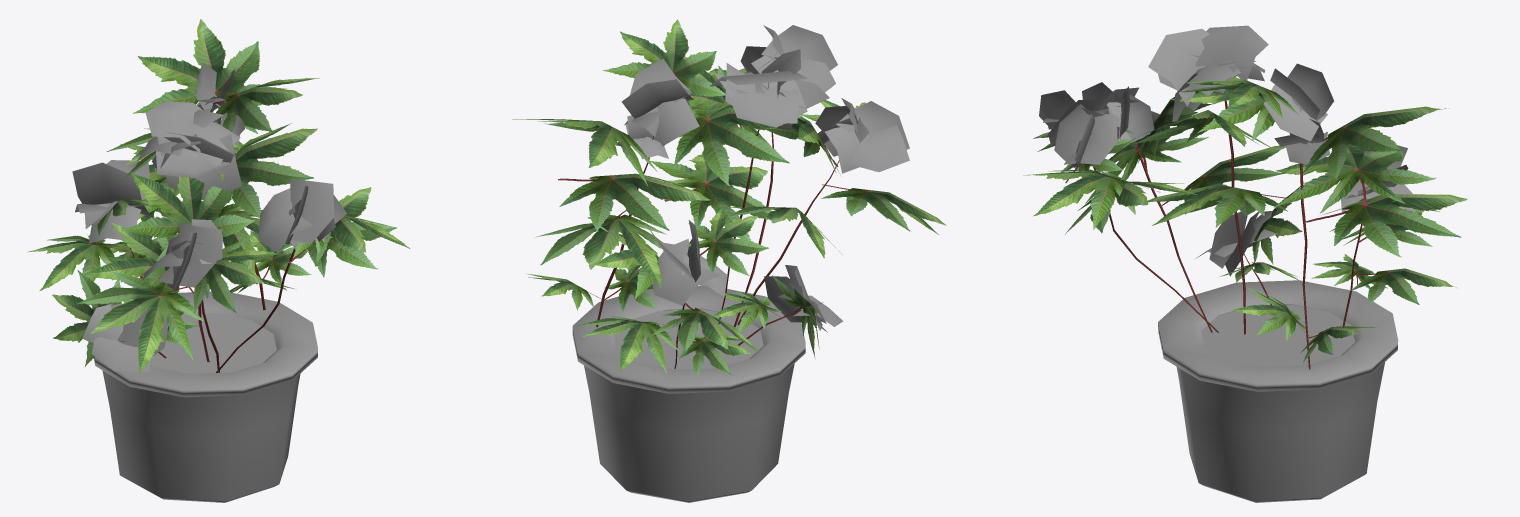
The model's file is Fern_flower_lod0.fbx.
The picture shows the model from 3 angles, left to right: view 1: azimuth 30°, elevation 25°; view 2: azimuth 150°, elevation 25°; view 3: azimuth 270°, elevation 25°; orthographic projection. The views are drawn at different scales.
Visible parts, largest first — view 1: Fern_flower_lod0; view 2: Fern_flower_lod0; view 3: Fern_flower_lod0.
Boxes of the visible parts, x1,y1,x2,y2 form: Fern_flower_lod0: (27,19,409,502); Fern_flower_lod0: (512,19,946,502); Fern_flower_lod0: (1023,25,1467,502).
Bounding box in the file's own units: 23.29 × 25.79 × 27.5.
3 materials, 1 textured.
